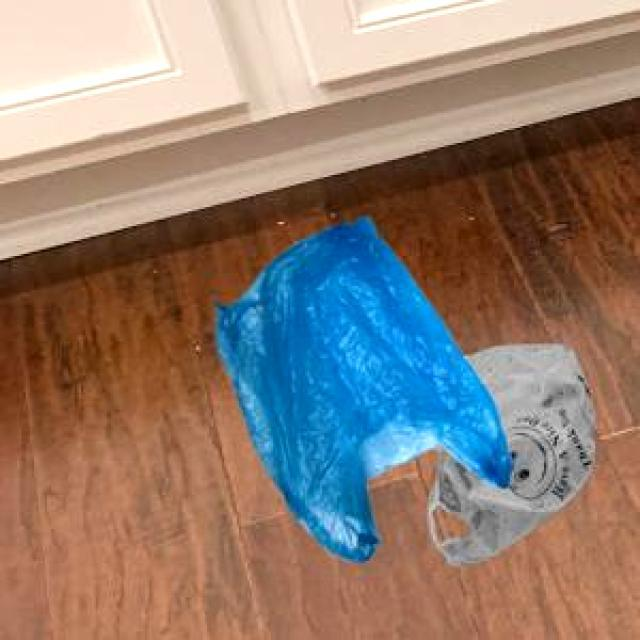Plastic_Bag: (212, 214, 511, 558), (425, 342, 590, 562)
